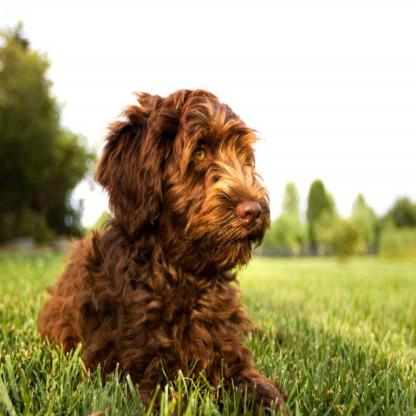dog: (42, 85, 286, 416)
